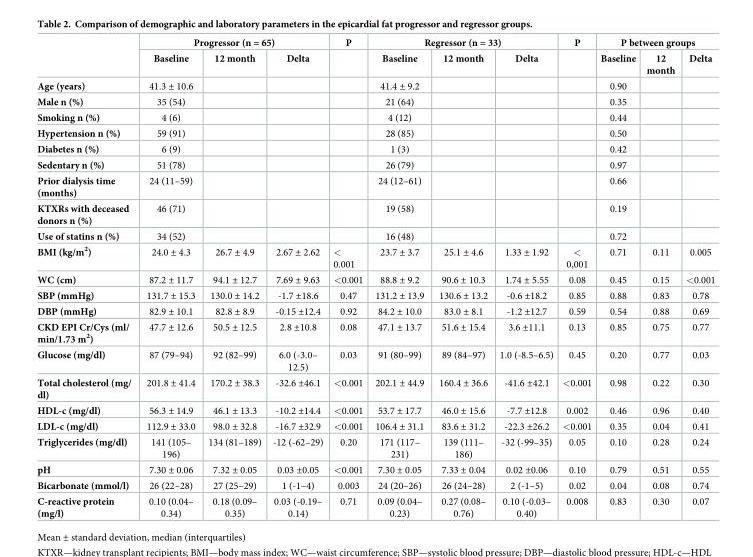table: (36, 37, 714, 518)
table column: (36, 37, 138, 518), (201, 37, 266, 518), (493, 37, 557, 518), (138, 37, 201, 518), (430, 37, 493, 518), (368, 37, 430, 518), (266, 37, 327, 518), (595, 37, 640, 518), (327, 37, 368, 518), (640, 37, 679, 518), (557, 37, 595, 518), (679, 37, 714, 518)
table column header: (36, 37, 714, 77)
table row: (36, 172, 714, 200), (36, 200, 714, 228), (36, 318, 714, 346), (36, 373, 714, 401), (36, 50, 714, 77), (36, 243, 714, 270), (36, 346, 714, 373), (36, 434, 714, 461), (36, 493, 714, 518), (36, 77, 714, 94), (36, 270, 714, 287), (36, 401, 714, 418), (36, 461, 714, 478), (36, 109, 714, 125), (36, 125, 714, 141), (36, 156, 714, 172), (36, 287, 714, 303), (36, 418, 714, 434), (36, 94, 714, 109), (36, 141, 714, 156), (36, 228, 714, 243), (36, 303, 714, 318), (36, 478, 714, 493), (36, 37, 714, 50)
table spanning cell: (138, 37, 327, 50), (368, 37, 557, 50), (327, 37, 368, 77), (595, 37, 714, 50), (557, 37, 595, 77)
